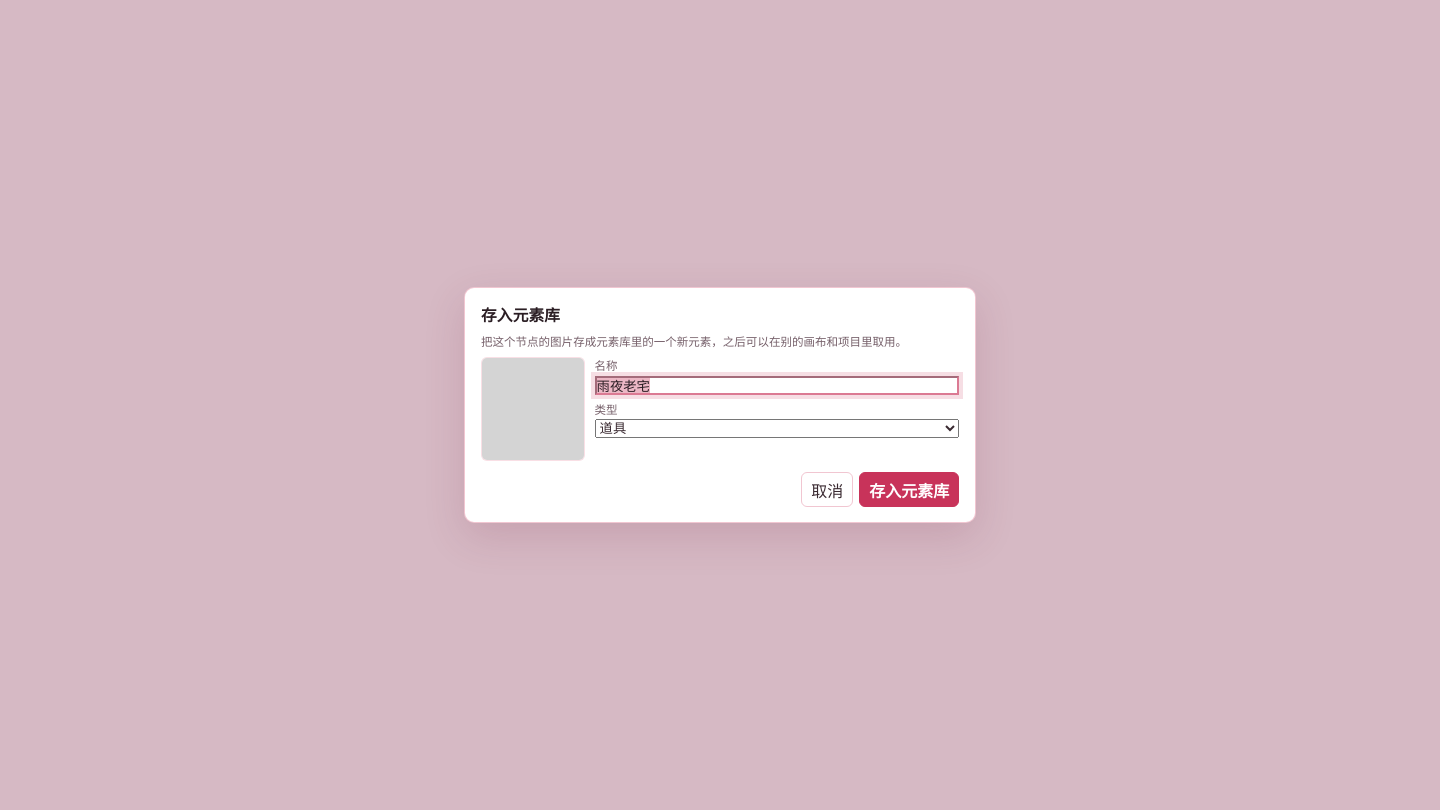
Scenario: keeping a node's picture in the element library › explains what an actor still needs
Expected: the text "正面全身位" is not shown
Step 1. Select "演员" in the dropdown labelled "类型" → [777, 429], box [595,419,959,438]
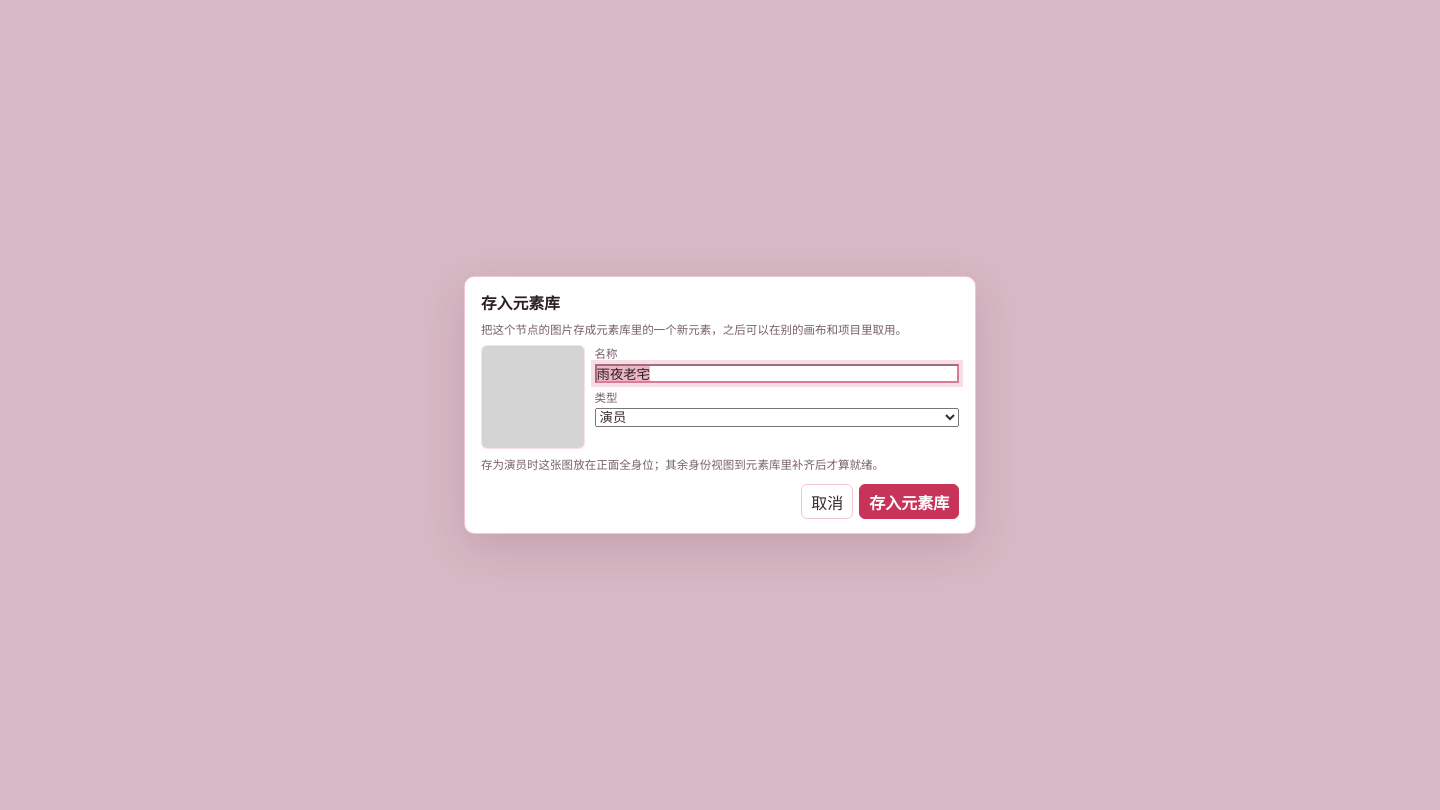
Now the text "存为演员时这张图放在正面全身位；其余身份视图到元素库里补齐后才算就绪。" is shown, box [481,457,884,472]
